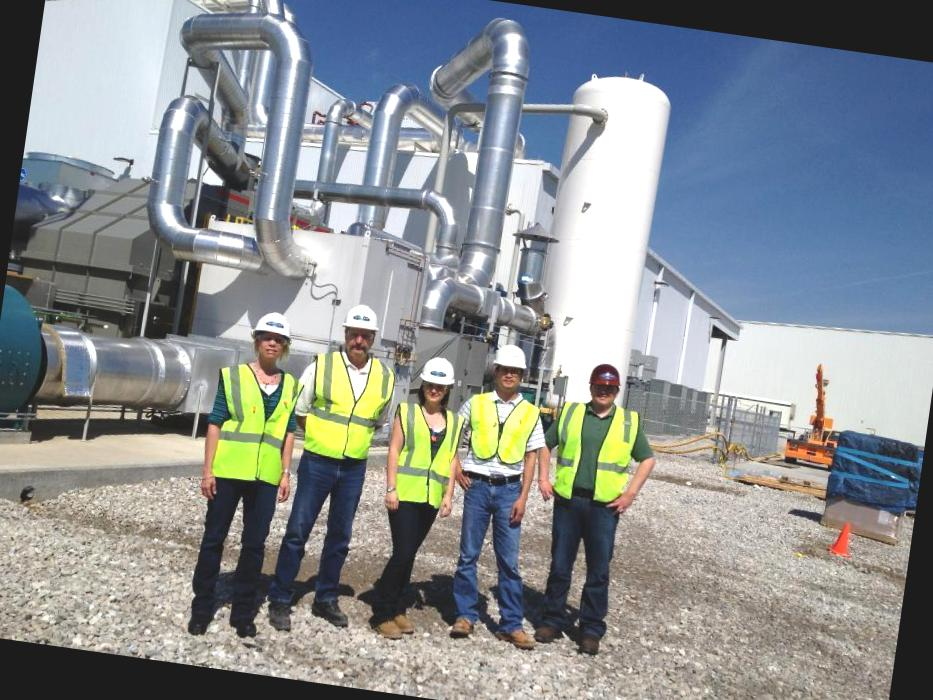helmet: (249, 307, 303, 349), (484, 338, 534, 383), (412, 351, 462, 394), (334, 301, 386, 337)
person: (176, 302, 314, 646), (260, 294, 396, 634), (524, 352, 664, 666), (439, 338, 561, 649), (358, 344, 472, 647)
